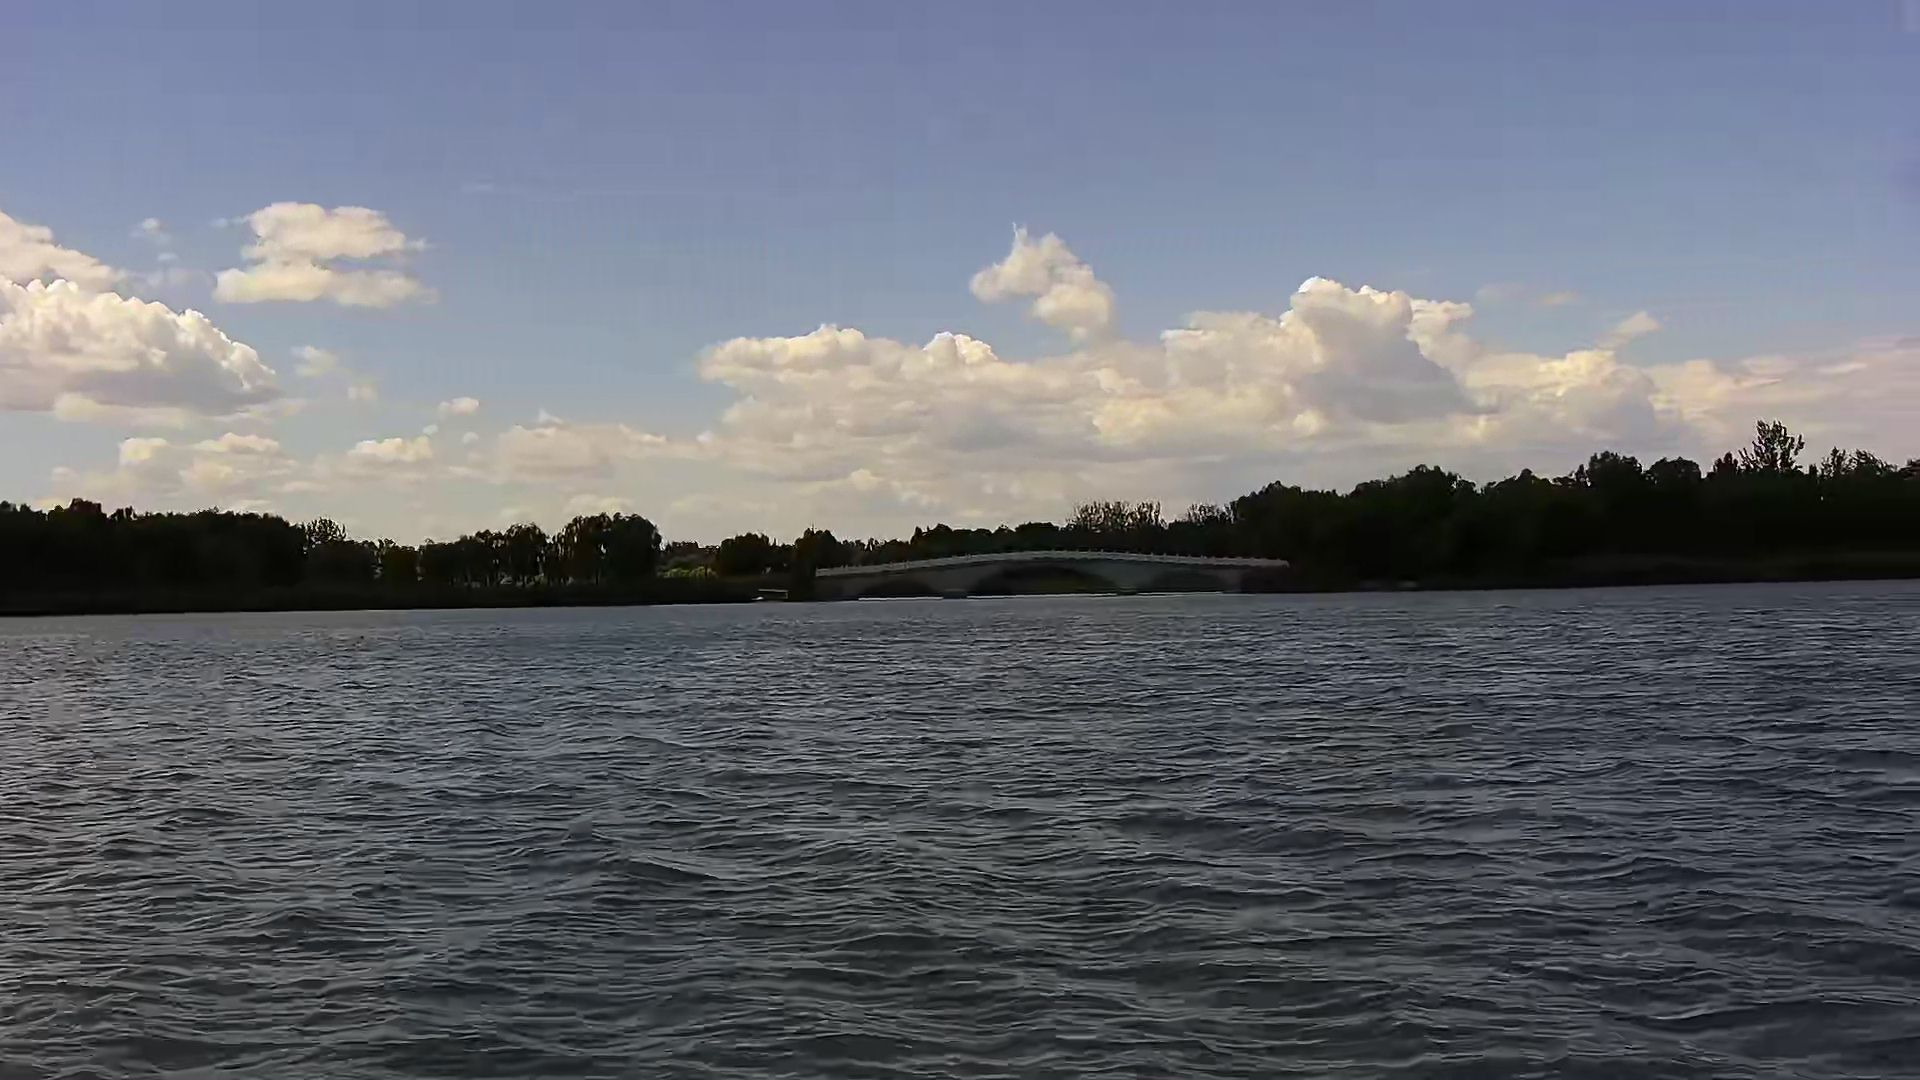bridge: (815, 551, 1296, 597)
